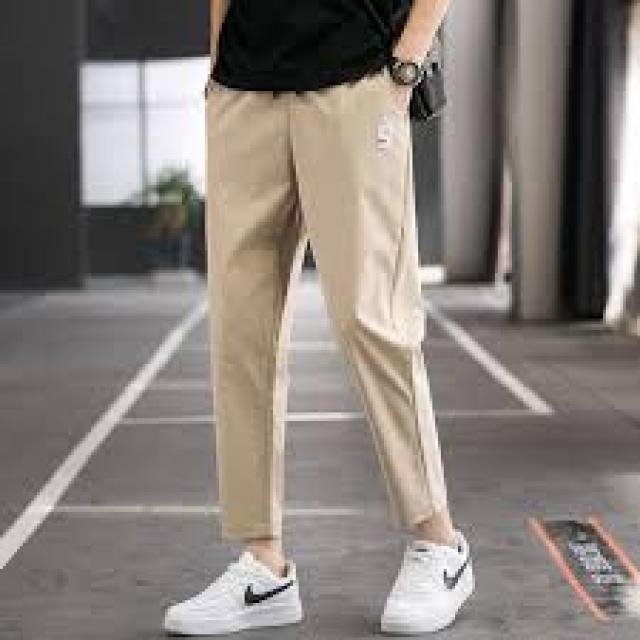pants: (199, 68, 455, 540)
